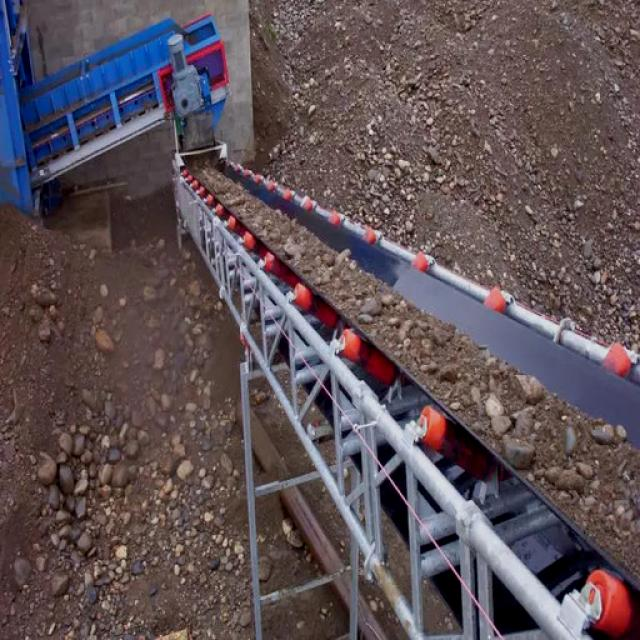conveyor: (171, 146, 640, 596)
